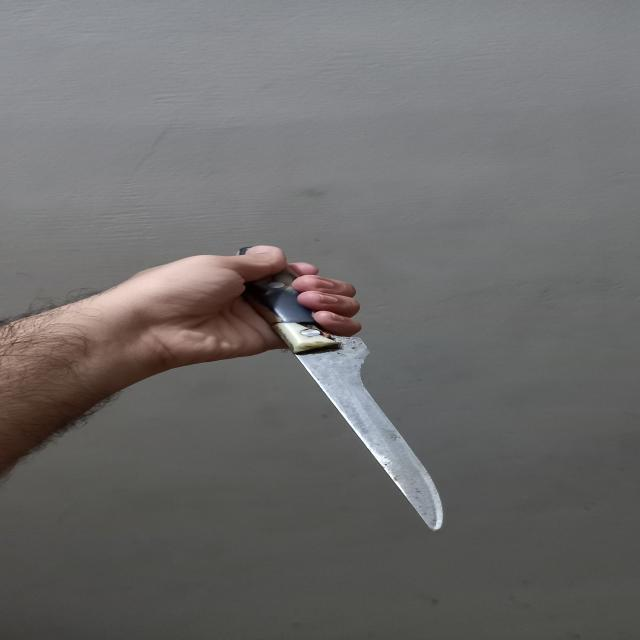Knife: (233, 239, 454, 540)
